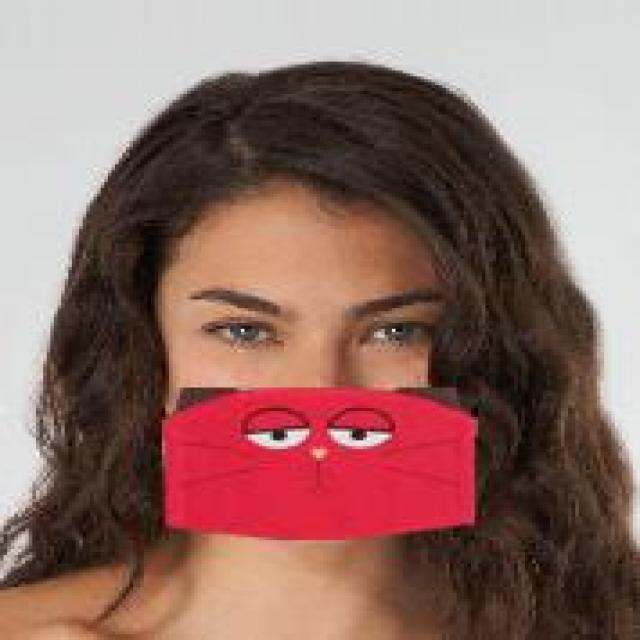mask: (100, 59, 572, 566)
